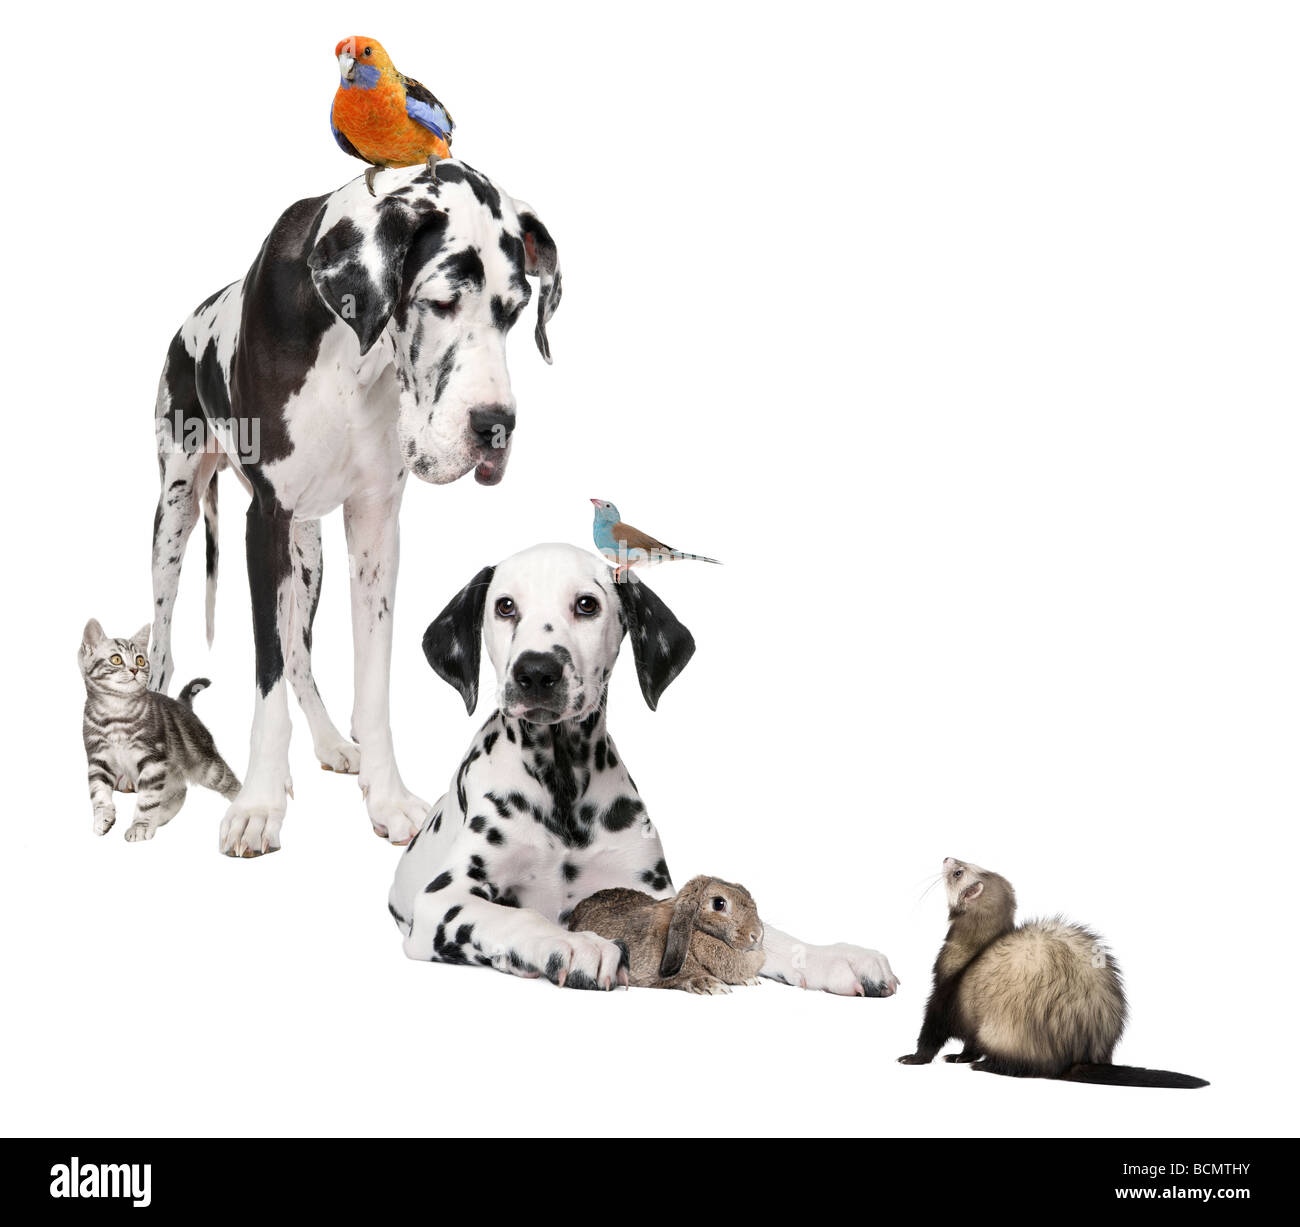cat: (54, 609, 215, 855)
dog: (176, 161, 583, 510), (448, 532, 622, 980)
rabbit: (564, 868, 801, 993)
